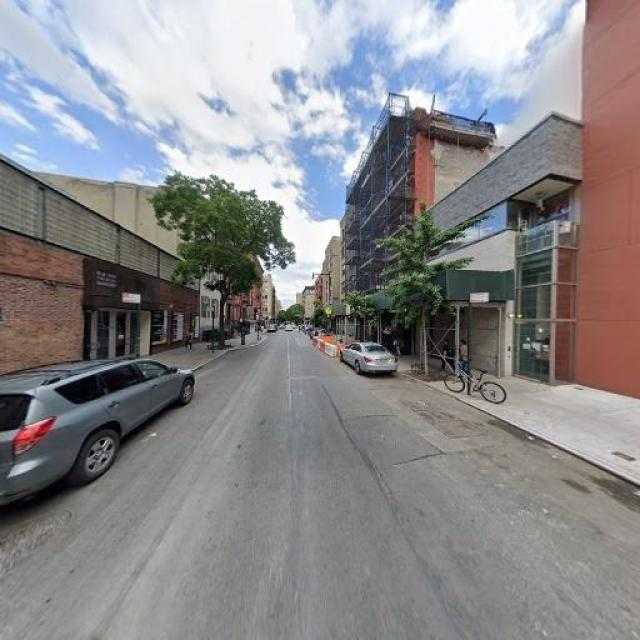Building: (1, 160, 199, 390), (418, 129, 543, 377), (579, 1, 640, 399)
